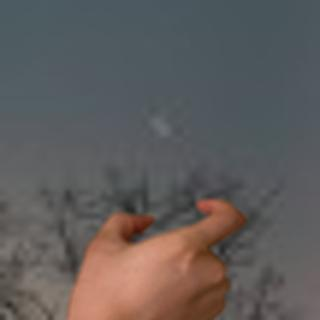HATE: (58, 194, 247, 320)
